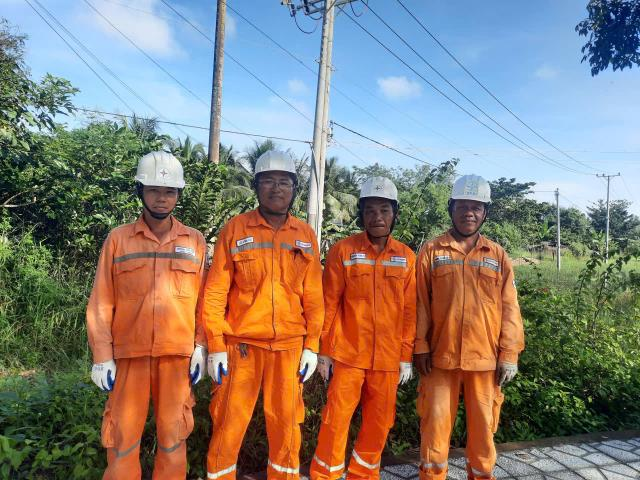gloves: (85, 354, 127, 399), (196, 344, 233, 384), (489, 346, 521, 387), (313, 346, 337, 386), (189, 341, 211, 384), (388, 355, 414, 391), (297, 345, 316, 382)
helmet: (131, 146, 197, 195), (247, 143, 304, 188), (444, 169, 496, 208), (349, 174, 404, 209)
